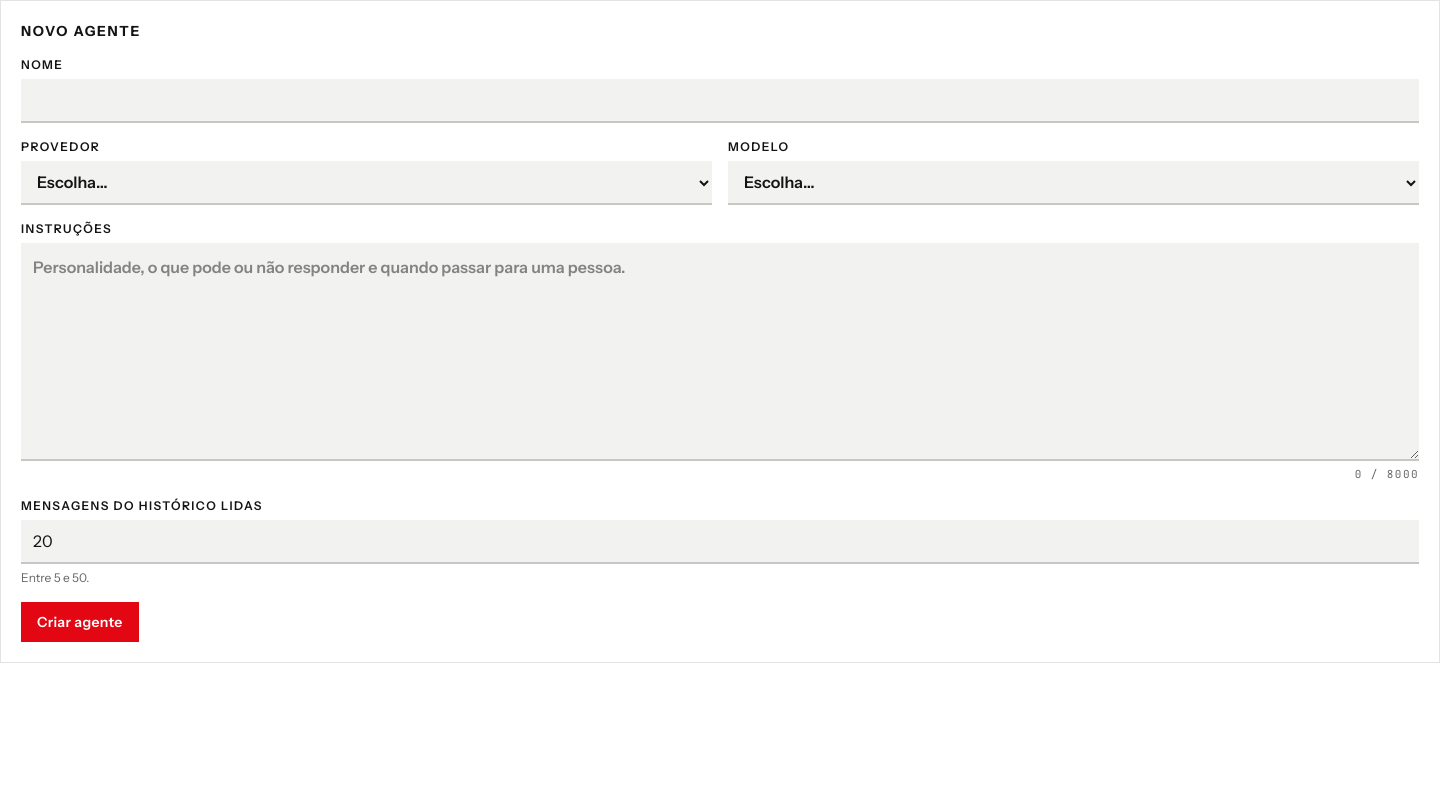
it: AgentForm › blocks submit with a validation message
Click the button "Criar agente" at [80, 622], box [21,602,139,642]
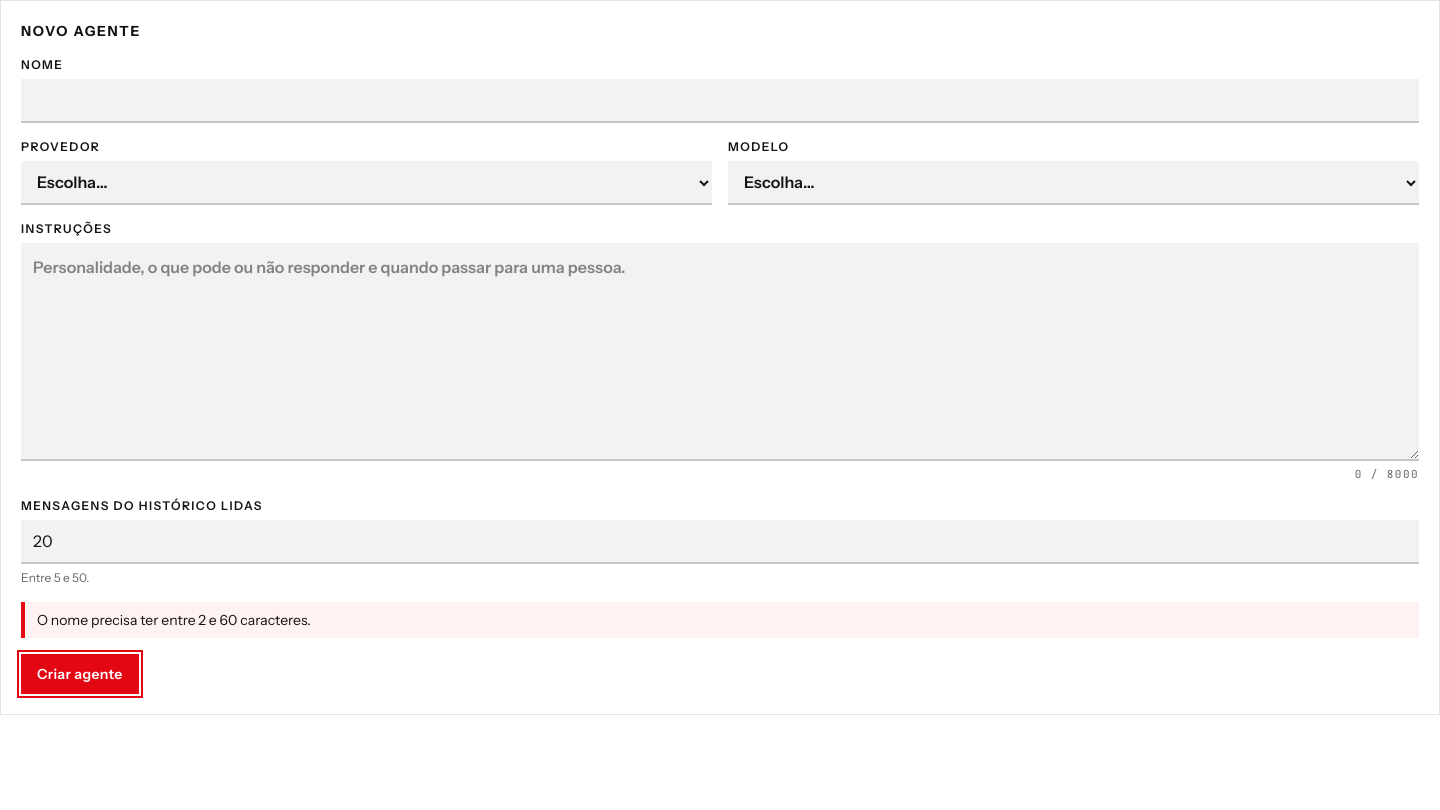
Result: the message reads "O nome precisa ter entre 2 e 60 caracteres." at [37,611,311,629]
